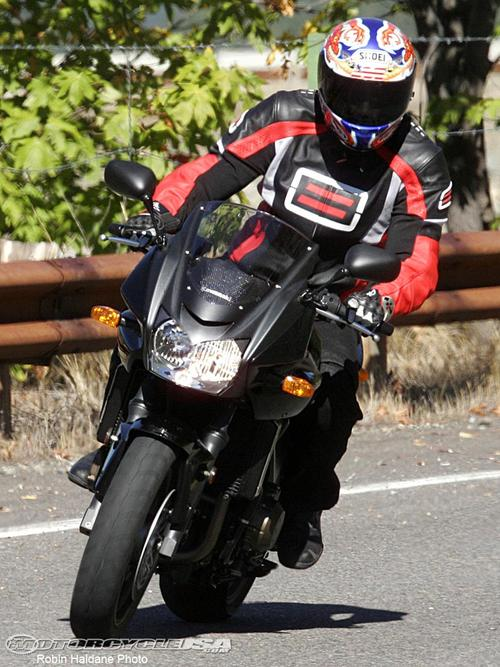摩托车: (59, 160, 396, 646)
